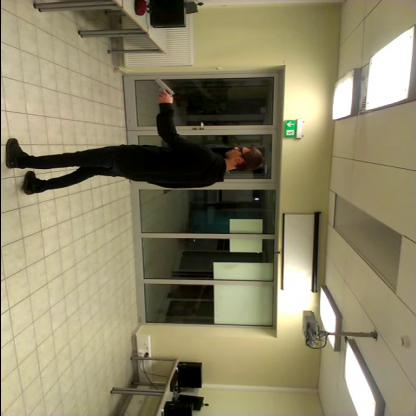Pistol: (147, 71, 175, 103)
